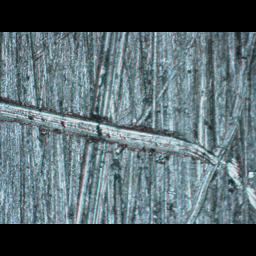d: (0, 95, 254, 210)
